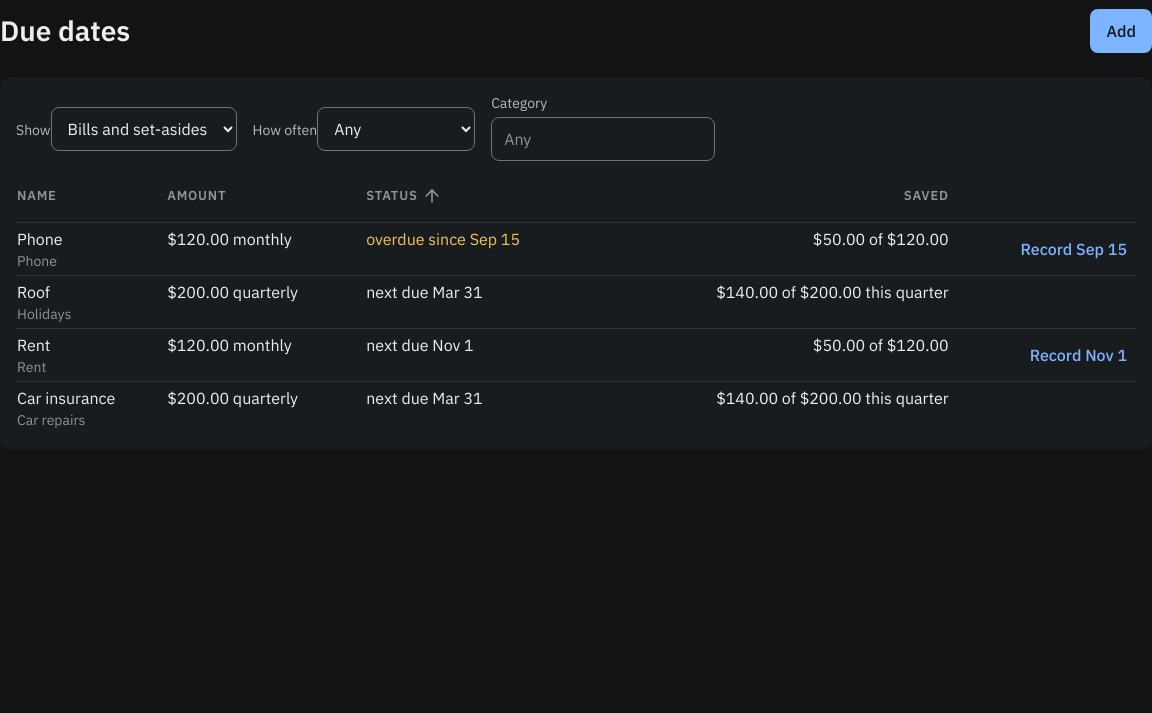
Test: the Due dates page › Add a set-aside opens the form on a Commitment
Expected: the text "Car insurance" is shown, x1=17 y1=388 x2=115 y2=408
Click the button "Add".
click(1121, 31)  # box x1=1090 y1=9 x2=1151 y2=53
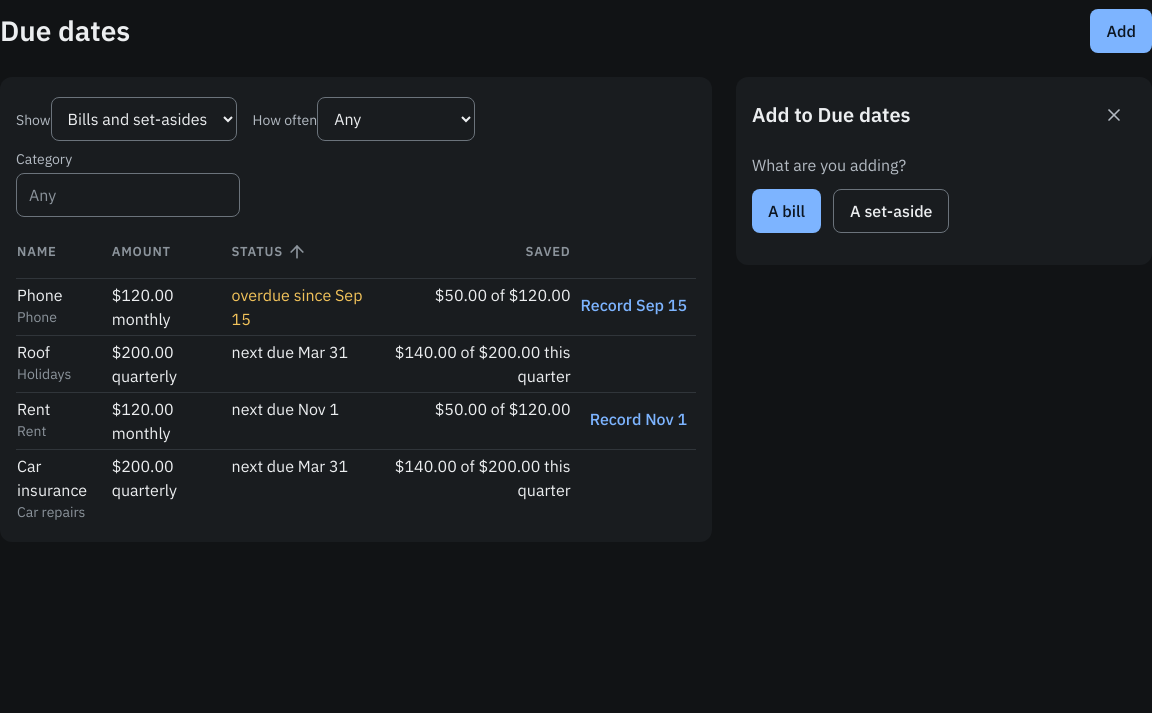
Click the button "A set-aside".
click(891, 211)  # box x1=833 y1=189 x2=950 y2=233
(page scrolled)
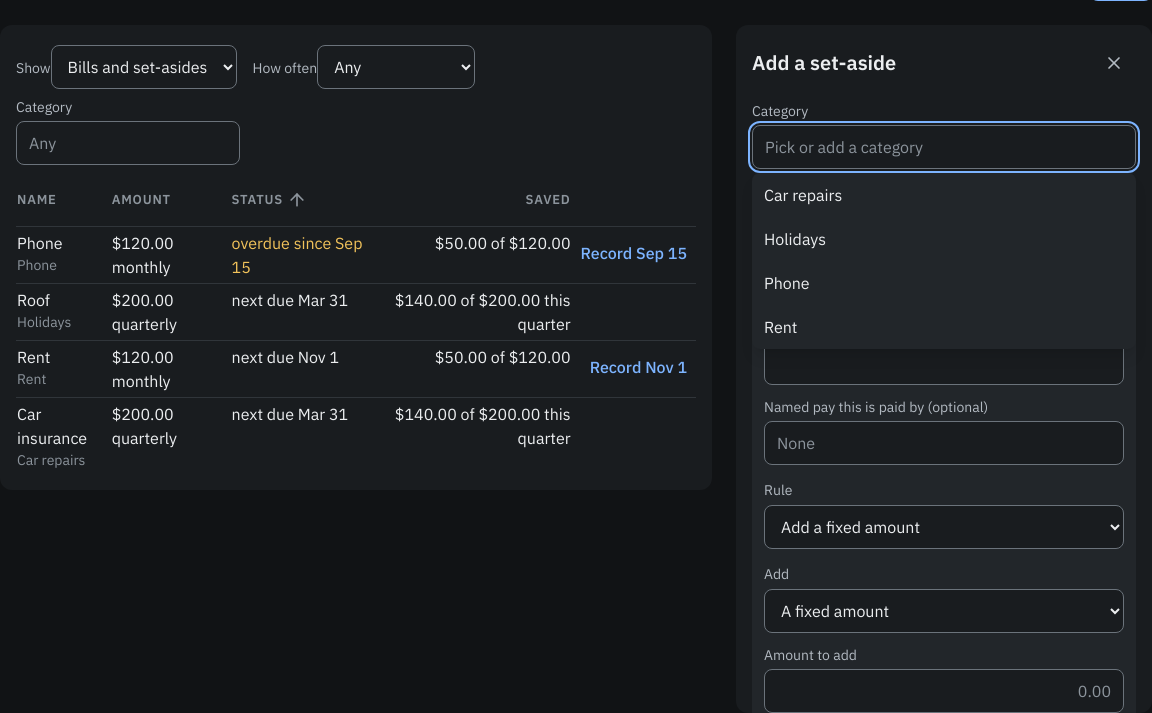
Result: the dropdown labelled "Kind" shows "Commitment" at x1=764 y1=257 x2=1124 y2=301
